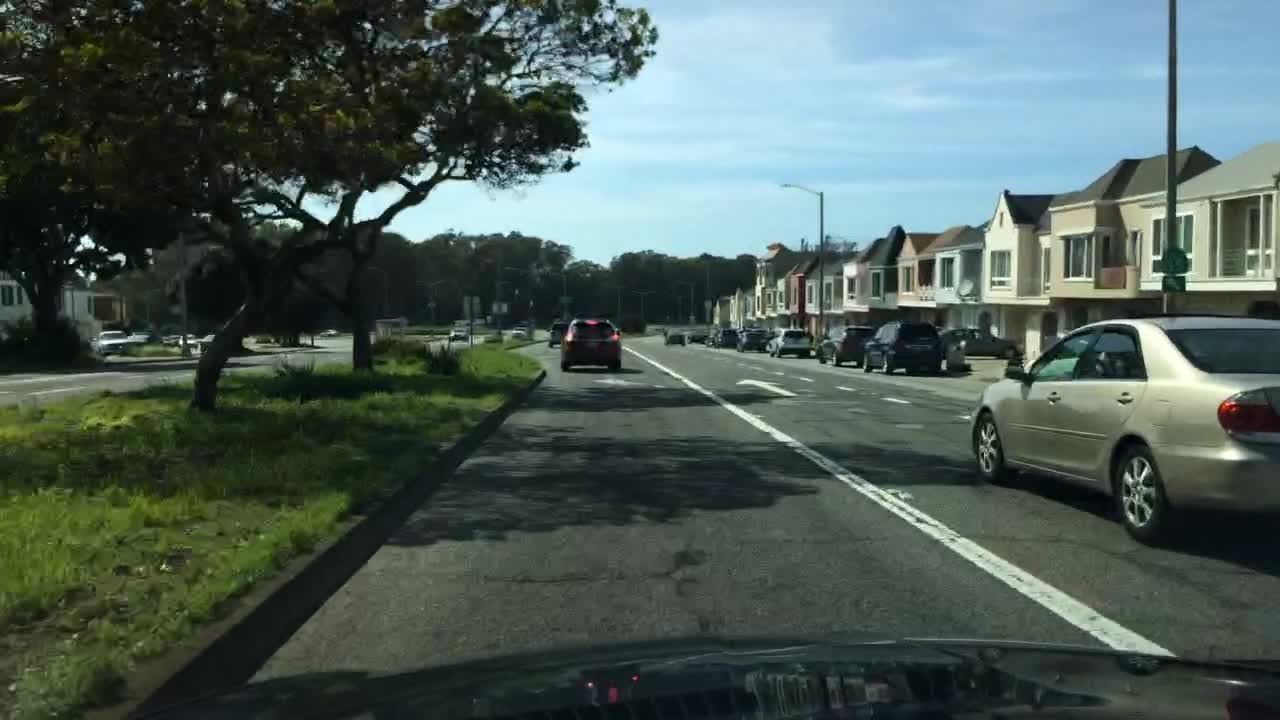car: (967, 314, 1279, 542), (863, 318, 945, 377), (558, 317, 625, 372), (937, 326, 1021, 361), (817, 323, 879, 367), (765, 326, 815, 357), (547, 319, 572, 347), (738, 329, 767, 351), (712, 327, 740, 348), (127, 332, 158, 348), (662, 327, 685, 347), (684, 327, 710, 344), (198, 331, 221, 346), (449, 327, 469, 342), (483, 332, 502, 347), (253, 332, 272, 346), (182, 332, 198, 348), (162, 332, 178, 346), (509, 326, 525, 337), (319, 327, 337, 336)
traffic sign: (1160, 247, 1190, 276), (462, 294, 482, 317), (1164, 276, 1189, 293), (487, 299, 509, 317)
truck: (87, 327, 129, 357)
